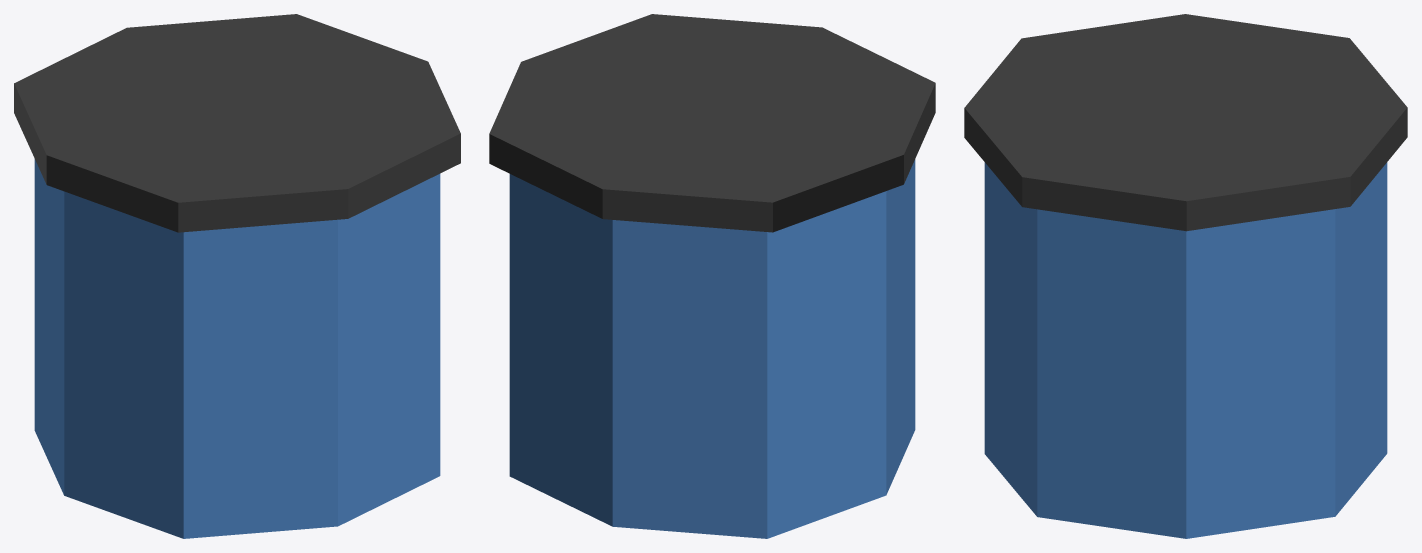
File: Jar_1.fbx
3 renders of one model, left to right at view 1: azimuth 30°, elevation 25°; view 2: azimuth 150°, elevation 25°; view 3: azimuth 270°, elevation 25°, orthographic.
Parts seen in each view (by area): view 1: Jar_1; view 2: Jar_1; view 3: Jar_1.
Part boxes in pixels (x1,y1,x2,y2): Jar_1: (14, 14, 460, 538); Jar_1: (489, 14, 935, 538); Jar_1: (964, 14, 1407, 538).
Size of the model in its own units: 27.94 by 27.94 by 24.09.
